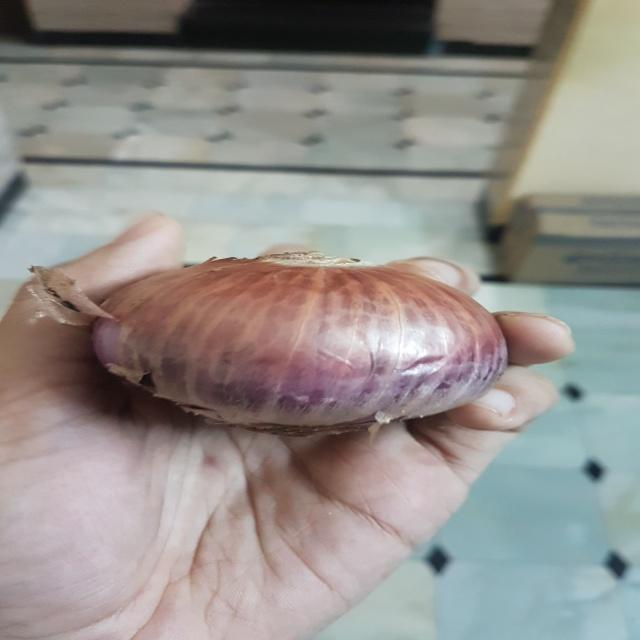onion: (76, 242, 526, 449)
